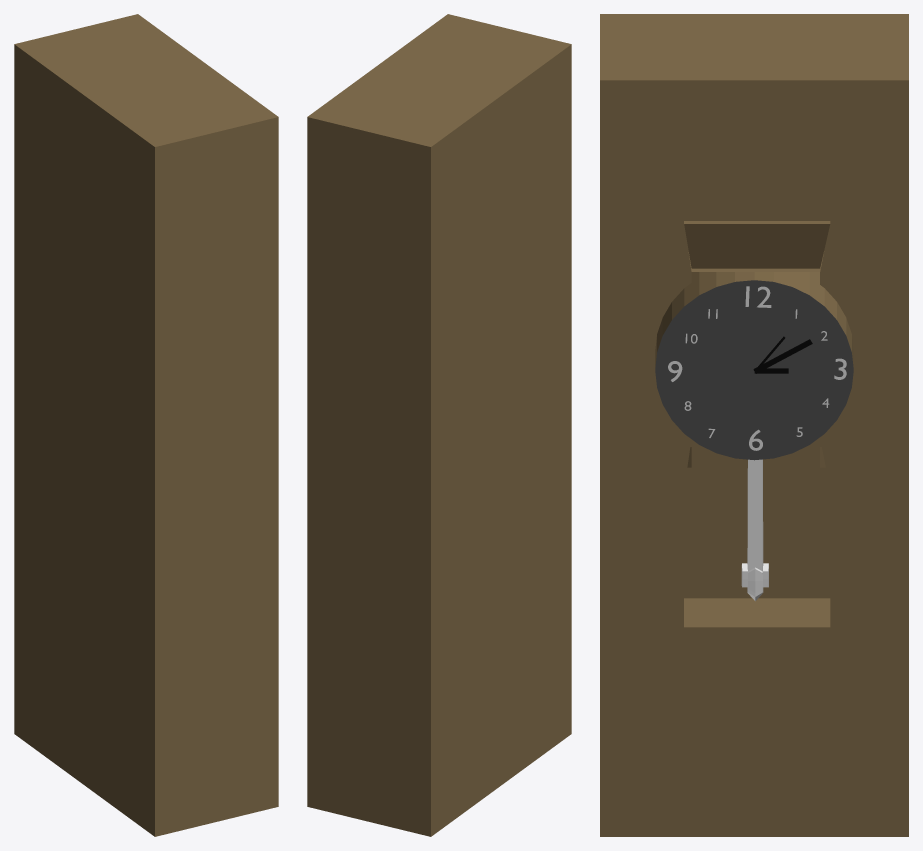
File: Grandfather Clock.fbx
3 renders of one model, left to right at view 1: azimuth 30°, elevation 25°; view 2: azimuth 150°, elevation 25°; view 3: azimuth 270°, elevation 25°, orthographic. The views are drawn at different scales.
Parts seen in each view (by area): view 1: Grandfather clock; view 2: Grandfather clock; view 3: Grandfather clock, Compartment, Pendulum.001.
Boxes of the visible parts, x1,y1,x2,y2 form: Grandfather clock: (14, 14, 278, 836); Grandfather clock: (307, 14, 571, 836); Grandfather clock: (600, 14, 908, 836); Compartment: (684, 221, 830, 268); Pendulum.001: (741, 459, 768, 601).
Bounding box in the file's own units: 81.17 × 415 × 153.
